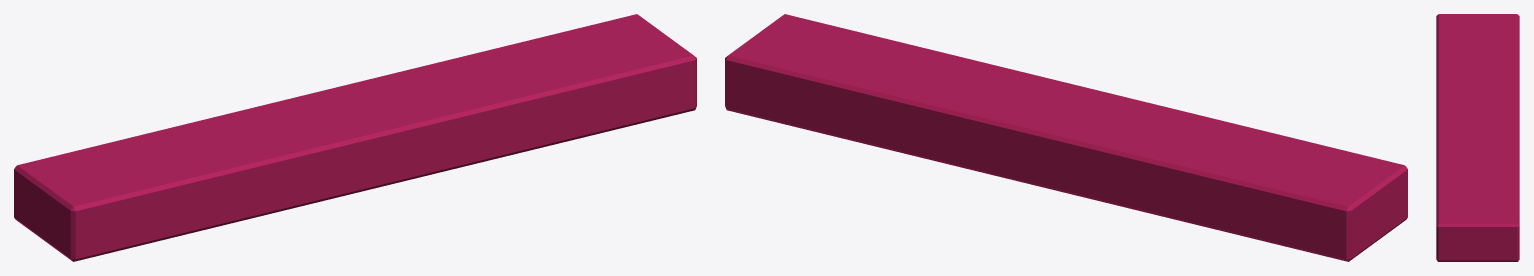
3 renders of one model, left to right at view 1: azimuth 30°, elevation 25°; view 2: azimuth 150°, elevation 25°; view 3: azimuth 270°, elevation 25°, orthographic. The views are drawn at different scales.
Visible parts, largest first — view 1: Part_6X1X0_low; view 2: Part_6X1X0_low; view 3: Part_6X1X0_low.
Boxes of the visible parts, <box> form: Part_6X1X0_low: <box>14,14,696,261</box>; Part_6X1X0_low: <box>725,14,1407,261</box>; Part_6X1X0_low: <box>1436,14,1519,261</box>.
Size of the model in its own units: 600 by 50 by 100.
